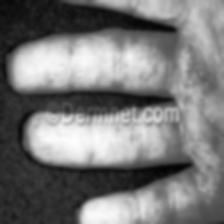Non-Cancerous Skin Condition: (13, 15, 224, 101), (45, 127, 224, 224)
